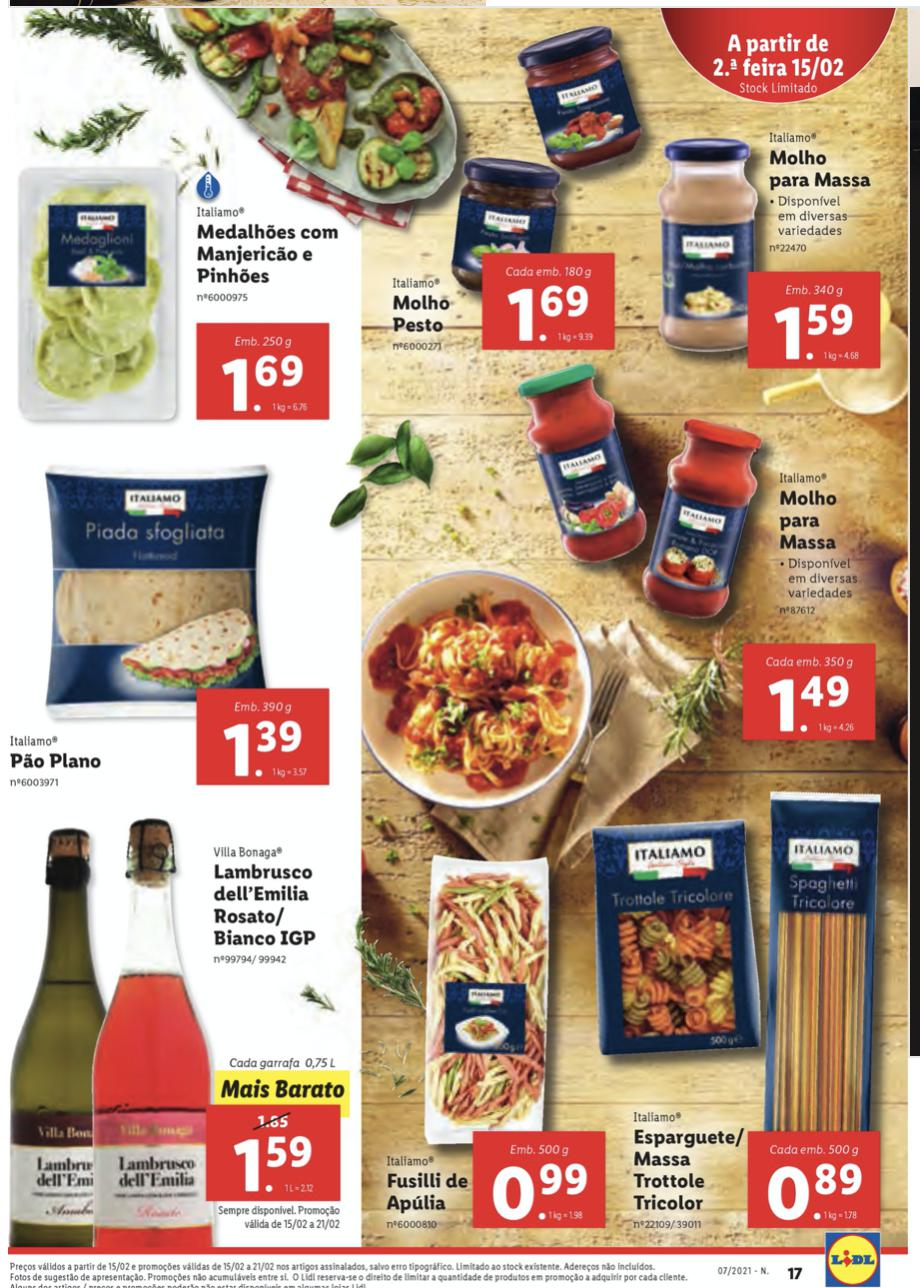name: (194, 214, 344, 289), (210, 857, 323, 951), (634, 1127, 748, 1213), (763, 141, 883, 195), (764, 483, 848, 557), (380, 1162, 471, 1218), (9, 746, 107, 778), (394, 291, 455, 338)
price: (755, 1153, 869, 1230), (485, 1153, 599, 1226), (218, 713, 315, 787), (764, 305, 869, 368), (220, 349, 318, 414), (504, 286, 602, 351), (229, 1135, 325, 1200), (771, 676, 855, 735)
product: (9, 808, 345, 1243), (632, 794, 899, 1232), (4, 457, 342, 799), (4, 151, 351, 440), (372, 830, 618, 1237), (634, 400, 882, 756), (636, 111, 901, 370), (371, 138, 634, 381)
